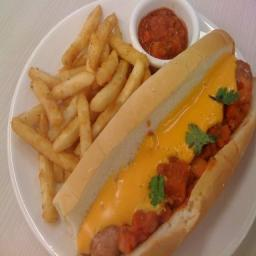hotdog: (88, 215, 122, 256), (233, 59, 255, 91)
